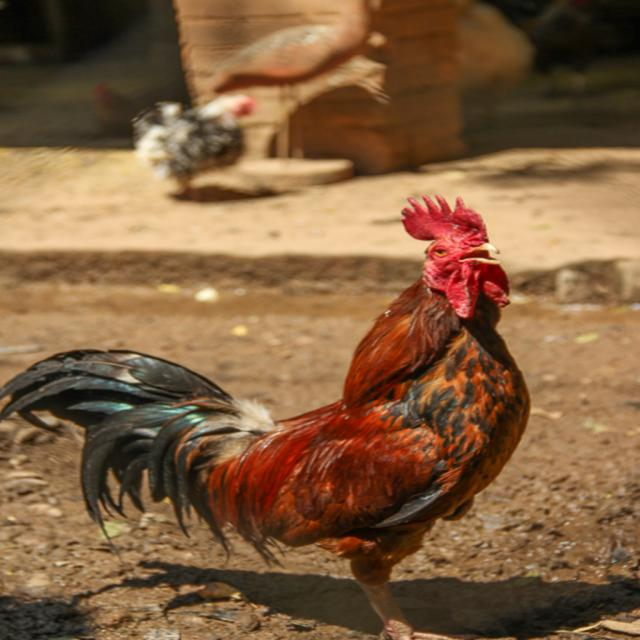Chicken: (0, 185, 540, 639), (94, 79, 255, 205)
